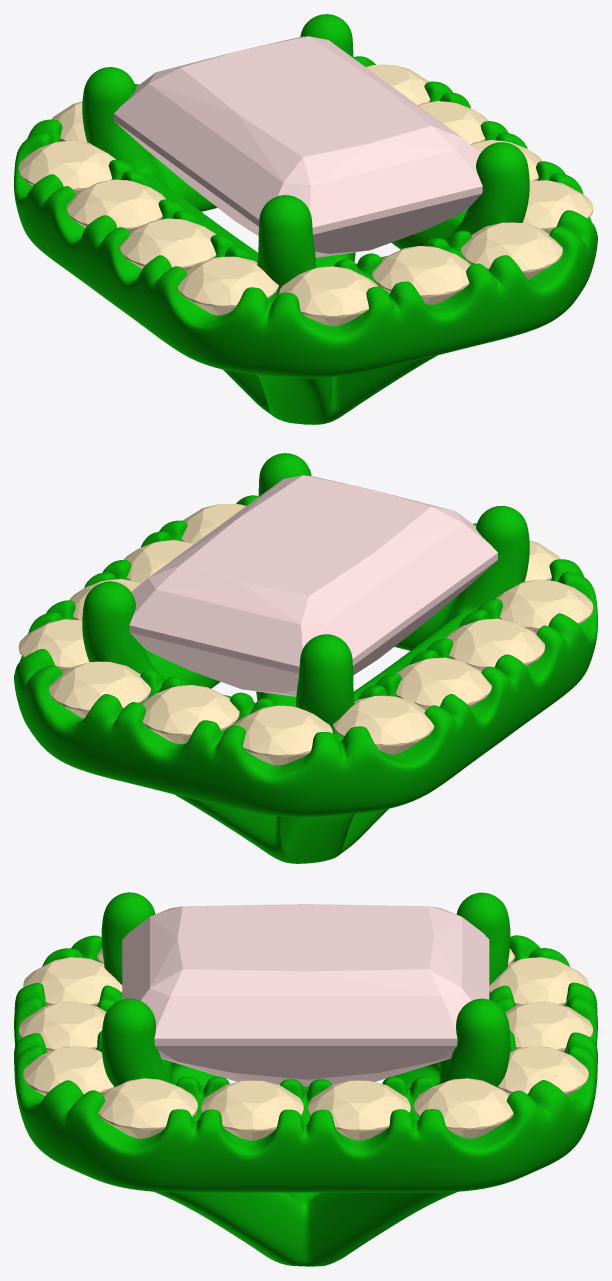
3 views of the same model, one above another, from view 1: azimuth 30°, elevation 25°; view 2: azimuth 150°, elevation 25°; view 3: azimuth 270°, elevation 25° (orthographic).
Parts seen in each view (by area): view 1: Metal01, Diamond_Radiant, Diamond_Round.011, Diamond_Round.010, Diamond_Round.012, Diamond_Round.009, Diamond_Round.013, Diamond_Round, Diamond_Round.001, Diamond_Round.008, Diamond_Round.006, Diamond_Round.005 (+2 smaller); view 2: Metal01, Diamond_Radiant, Diamond_Round.002, Diamond_Round.003, Diamond_Round.001, Diamond_Round.004, Diamond_Round, Diamond_Round.013, Diamond_Round.012, Diamond_Round.005, Diamond_Round.007, Diamond_Round.008 (+2 smaller); view 3: Metal01, Diamond_Radiant, Diamond_Round.008, Diamond_Round.005, Diamond_Round.006, Diamond_Round.007, Diamond_Round.009, Diamond_Round.004, Diamond_Round.011, Diamond_Round.010, Diamond_Round.003, Diamond_Round.002.
Boxes of the visible parts, bbox=[...] form: Metal01: bbox=[14, 14, 597, 424]; Diamond_Radiant: bbox=[114, 36, 482, 257]; Diamond_Round.011: bbox=[279, 266, 378, 326]; Diamond_Round.010: bbox=[372, 246, 470, 304]; Diamond_Round.012: bbox=[177, 256, 278, 315]; Diamond_Round.009: bbox=[461, 222, 562, 279]; Diamond_Round.013: bbox=[120, 218, 216, 271]; Diamond_Round: bbox=[66, 179, 165, 231]; Diamond_Round.001: bbox=[18, 140, 115, 193]; Diamond_Round.008: bbox=[522, 180, 593, 234]; Diamond_Round.006: bbox=[418, 101, 488, 144]; Diamond_Round.005: bbox=[366, 64, 430, 104]; Metal01: bbox=[14, 453, 597, 863]; Diamond_Radiant: bbox=[129, 475, 497, 696]; Diamond_Round.002: bbox=[234, 705, 332, 765]; Diamond_Round.003: bbox=[141, 685, 239, 743]; Diamond_Round.001: bbox=[333, 695, 434, 754]; Diamond_Round.004: bbox=[49, 661, 150, 718]; Diamond_Round: bbox=[395, 657, 491, 710]; Diamond_Round.013: bbox=[445, 618, 545, 670]; Diamond_Round.012: bbox=[495, 579, 593, 633]; Diamond_Round.005: bbox=[18, 619, 88, 673]; Diamond_Round.007: bbox=[123, 540, 193, 583]; Diamond_Round.008: bbox=[181, 504, 245, 543]; Metal01: bbox=[14, 892, 597, 1266]; Diamond_Radiant: bbox=[122, 904, 489, 1086]; Diamond_Round.008: bbox=[98, 1078, 197, 1138]; Diamond_Round.005: bbox=[414, 1078, 513, 1138]; Diamond_Round.006: bbox=[308, 1080, 410, 1140]; Diamond_Round.007: bbox=[201, 1080, 303, 1140]; Diamond_Round.009: bbox=[23, 1046, 114, 1095]; Diamond_Round.004: bbox=[497, 1046, 588, 1095]; Diamond_Round.011: bbox=[23, 957, 122, 1005]; Diamond_Round.010: bbox=[19, 1002, 106, 1052]; Diamond_Round.003: bbox=[505, 1002, 592, 1052]; Diamond_Round.002: bbox=[489, 957, 588, 1005].
Size of the model in its own units: 7.37 by 5.27 by 8.83.
